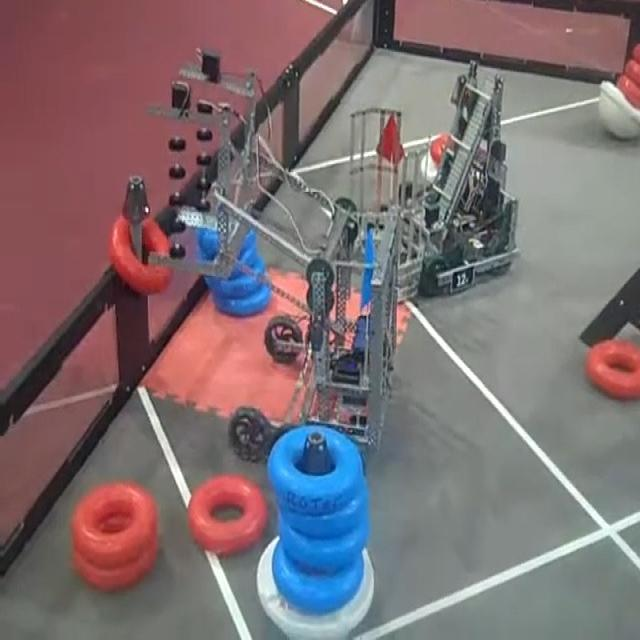Blue-Ring: (268, 425, 362, 514), (272, 542, 364, 614), (280, 517, 369, 572), (281, 487, 369, 538), (204, 262, 269, 301), (204, 225, 258, 269), (213, 284, 272, 317)
Red-Ring: (71, 482, 158, 568), (189, 475, 268, 554), (109, 215, 172, 294), (72, 543, 156, 592), (585, 340, 639, 398), (614, 74, 639, 110)
